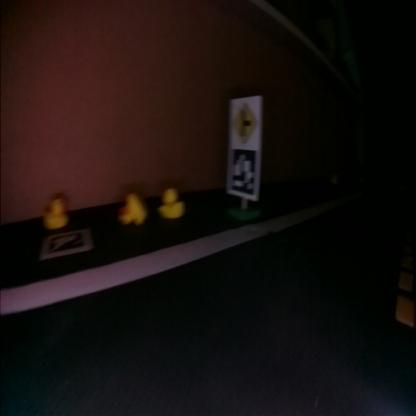Duckie: (122, 194, 146, 225), (164, 186, 186, 216), (45, 198, 67, 226)
Intersection sign: (233, 101, 259, 143)
QR code: (42, 230, 90, 260), (232, 149, 260, 196)
